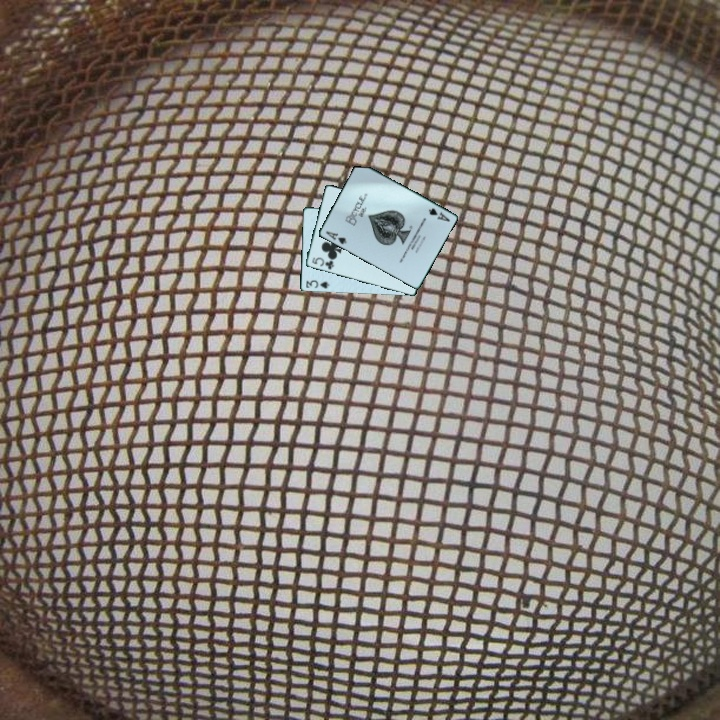3s: (303, 277, 332, 291)
5c: (308, 254, 336, 272)
As: (322, 228, 349, 247), (425, 205, 452, 224)
